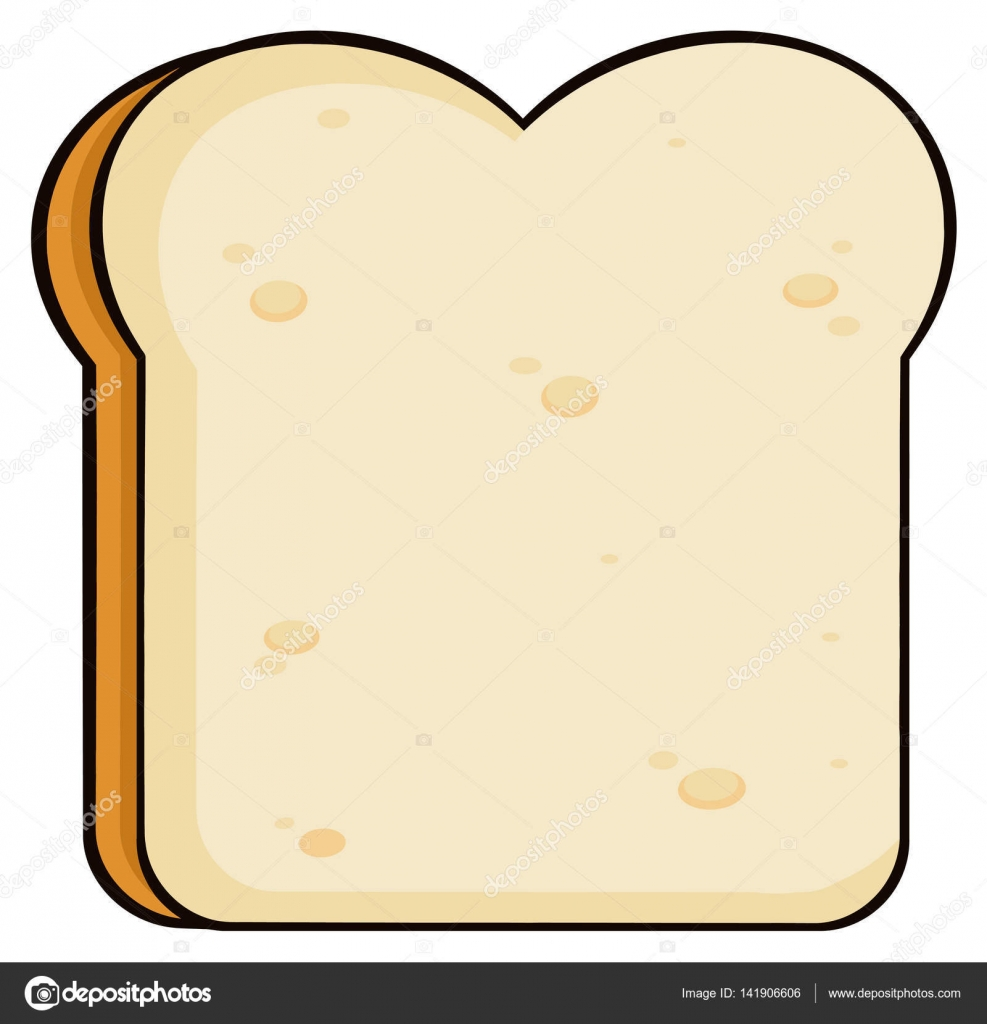slice of bread: (56, 102, 914, 924)
